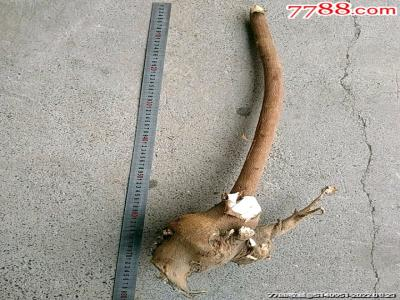Root: (151, 5, 337, 296)
